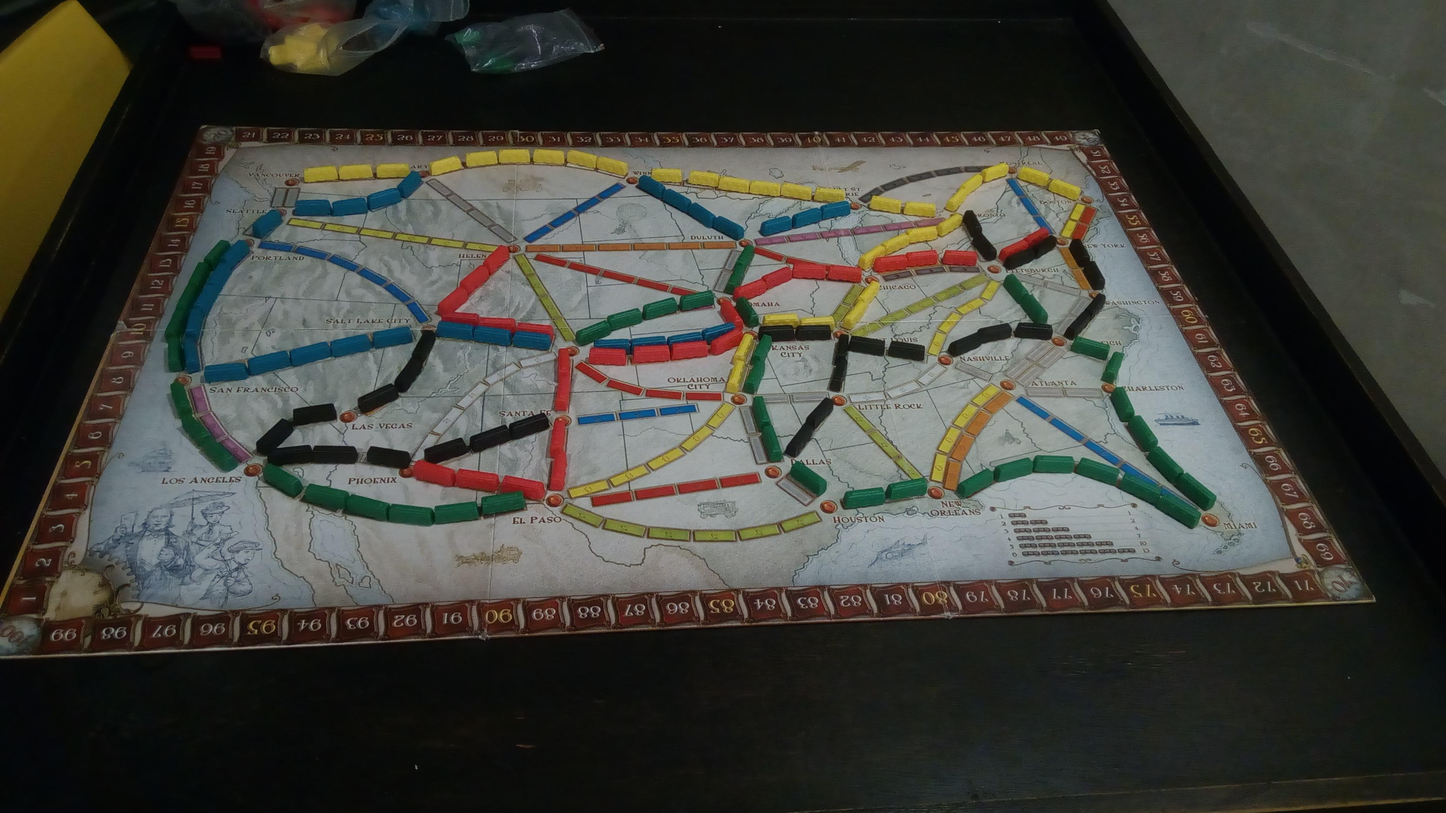black_train: (256, 420, 294, 455), (358, 383, 399, 413), (394, 357, 426, 393), (424, 438, 469, 463), (507, 413, 549, 439), (470, 426, 512, 451), (366, 446, 411, 469), (291, 403, 337, 425), (268, 445, 313, 466), (785, 423, 813, 456), (805, 398, 834, 428), (886, 339, 925, 361), (1063, 312, 1091, 342), (411, 329, 437, 361), (312, 446, 358, 464), (949, 331, 982, 356), (848, 335, 886, 356), (977, 323, 1014, 344), (1003, 248, 1036, 270), (1081, 260, 1105, 290), (1014, 322, 1053, 340), (972, 233, 997, 261), (1032, 234, 1058, 259), (828, 359, 847, 392), (761, 325, 795, 343), (795, 324, 832, 340), (1070, 238, 1090, 265), (964, 210, 982, 240), (1085, 292, 1106, 317), (834, 334, 850, 362)
blue_train: (248, 350, 291, 375), (290, 342, 331, 366), (248, 210, 282, 238), (330, 334, 371, 357), (205, 362, 248, 383), (371, 326, 412, 347), (192, 285, 219, 316), (512, 330, 552, 350), (472, 325, 511, 345), (367, 188, 402, 210), (712, 216, 744, 240), (206, 263, 232, 291), (437, 320, 472, 340), (184, 308, 204, 342), (397, 171, 422, 198), (687, 202, 714, 227), (760, 216, 793, 236), (701, 322, 735, 341), (331, 198, 368, 215), (295, 199, 332, 216), (223, 241, 249, 265), (182, 339, 200, 373), (662, 189, 690, 210), (792, 208, 821, 227), (637, 176, 663, 197), (820, 201, 851, 218), (594, 337, 631, 350), (631, 336, 667, 349), (668, 331, 703, 344)
green_train: (1157, 493, 1201, 529), (1177, 474, 1216, 510), (262, 463, 303, 497), (1147, 446, 1183, 483), (1118, 474, 1160, 505), (301, 483, 348, 510), (789, 461, 826, 495), (200, 439, 239, 471), (1076, 459, 1121, 486), (344, 494, 390, 520), (1127, 415, 1157, 453), (955, 469, 994, 497), (433, 500, 479, 523), (181, 413, 213, 446), (481, 492, 525, 516), (388, 504, 434, 526), (886, 477, 928, 501), (1070, 337, 1111, 360), (842, 487, 885, 508), (1110, 386, 1135, 422), (994, 459, 1033, 482), (575, 321, 611, 345), (1002, 274, 1030, 304), (1021, 294, 1049, 324), (165, 308, 189, 342), (170, 382, 193, 417), (642, 298, 678, 319), (1033, 455, 1075, 473), (734, 297, 759, 327), (1101, 351, 1124, 383), (607, 308, 642, 329), (679, 291, 714, 311), (762, 428, 782, 463), (174, 285, 199, 313), (188, 262, 212, 291), (750, 335, 772, 365), (204, 240, 230, 265), (733, 245, 755, 274), (724, 265, 745, 295), (743, 364, 764, 393), (166, 340, 184, 372), (752, 398, 771, 427)
red_train: (413, 460, 456, 486), (501, 476, 545, 499), (457, 469, 498, 492), (710, 328, 745, 354), (460, 265, 490, 294), (481, 245, 510, 275), (438, 288, 469, 316), (588, 344, 627, 365), (632, 344, 670, 364), (671, 340, 707, 360), (719, 298, 743, 328), (998, 239, 1029, 262), (549, 418, 567, 457), (734, 278, 767, 299), (553, 375, 572, 411), (874, 254, 908, 274), (548, 455, 567, 490), (763, 267, 792, 288), (827, 265, 862, 282), (792, 262, 826, 279), (477, 317, 516, 331), (906, 250, 938, 267), (942, 250, 977, 265), (1023, 227, 1049, 247), (516, 322, 553, 336), (442, 311, 481, 324), (556, 349, 571, 382)
yellow_train: (859, 244, 889, 269), (842, 301, 867, 330), (733, 333, 755, 365), (1018, 165, 1050, 186), (1048, 179, 1081, 199), (855, 281, 880, 306), (943, 188, 968, 213), (431, 156, 462, 176), (881, 234, 910, 255), (869, 195, 902, 213), (566, 150, 597, 169), (596, 157, 627, 176), (781, 182, 812, 201), (906, 226, 939, 243), (801, 316, 834, 333), (303, 166, 337, 182), (466, 151, 498, 168), (725, 362, 743, 392), (688, 170, 719, 187), (937, 214, 962, 235), (533, 149, 565, 165), (376, 163, 410, 178), (719, 176, 750, 192), (749, 180, 780, 196), (813, 187, 846, 202), (982, 163, 1008, 182), (762, 313, 800, 326), (956, 174, 982, 193), (903, 202, 935, 217), (339, 165, 372, 179), (652, 168, 681, 183), (499, 149, 530, 163)
